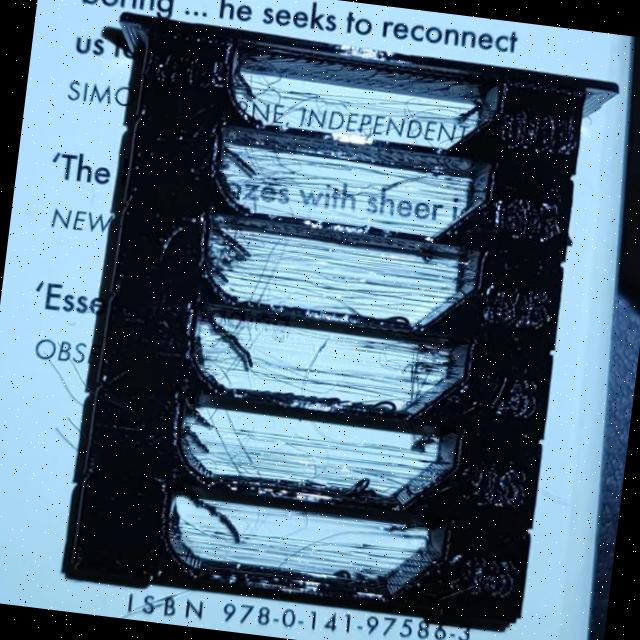stringing: (214, 38, 502, 163), (168, 396, 462, 511), (182, 307, 473, 420), (205, 136, 496, 248), (194, 229, 483, 340), (162, 494, 450, 602)
